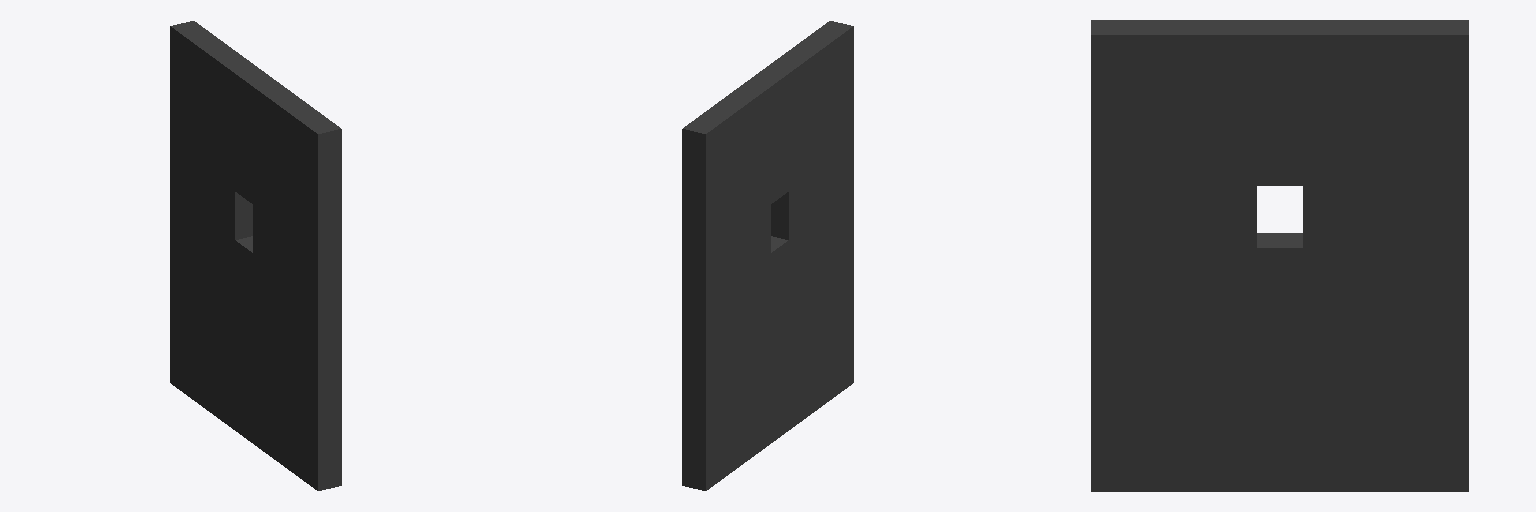
robot.urdf — adapter_station_square_socket:
<robot name="adapter_station_square_socket">
  
  
  
  
  
  
  
  
  
  
  <link name="world"><inertial><mass value="0.0" /><origin rpy="0 0 0" xyz="0 0 0" /><inertia ixx="0.0" ixy="0.0" ixz="0.0" iyy="0.0" iyz="0.0" izz="0.0" /></inertial></link>
  <joint name="socket_base_joint" type="fixed">
    <parent link="world" />
    <child link="socket_base" />
    <origin rpy="1.5707963267948966 0 -1.5707963267948966" xyz="0 0 0.5" />
  </joint>
  <link name="socket_base">
    <visual>
      <origin rpy="1.5707963267948966 0 0" xyz="0 0 0" />
      <geometry>
        <mesh filename="package://chargepal_tools/sockets/meshes/visual/ccs_socket.obj" scale="1.0 1.0 1.0" />
      </geometry>
      <material name="dark_grey">
        <color rgba="0.3 0.3 0.3 1" />
      </material>
    </visual>
    <collision>
      <origin rpy="0 0 0" xyz="0 0 0" />
      <geometry>
        <mesh filename="package://chargepal_tools/sockets/meshes/collision/ccs_socket_outter_vhacd.obj" scale="1.0 1.0 1.0" />
      </geometry>
    </collision>
    <inertial>
      <mass value="1.0" />
      <origin rpy="0 0 0" xyz="0 0 0" />
      <inertia ixx="0.0012421661697999999" ixy="0.0" ixz="0.0" iyy="0.001428103595425" iyz="0.0" izz="0.000690103890625" />
    </inertial>
  </link>
  <joint name="socket_wall_bottom_joint" type="fixed">
    <parent link="world" />
    <child link="socket_wall_bottom" />
    <origin rpy="0 0 1.5707963267948966" xyz="0.0275 0 0.2135" />
  </joint>
  <link name="socket_wall_bottom">
    <inertial>
      <mass value="1.0" />
      <origin rpy="0 0 0" xyz="0 0 0" />
      <inertia ixx="0.015446160488199998" ixy="0.0" ixz="0.0" iyy="0.045194065255699994" iyz="0.0" izz="0.030252071232499997" />
    </inertial>
    <visual>
      <material name="dark_grey">
        <color rgba="0.3 0.3 0.3 1" />
      </material>
      <orign rpy="0.0 0.0 0.0" xyz="0.0 0.0 0.0" />
      <geometry>
        <box size="0.6 0.055 0.427" />
      </geometry>
    </visual>
    <collision>
      <orign rpy="0.0 0.0 0.0" xyz="0.0 0.0 0.0" />
      <geometry>
        <box size="0.6 0.055 0.427" />
      </geometry>
    </collision>
  </link>
  <joint name="socket_wall_right_joint" type="fixed">
    <parent link="world" />
    <child link="socket_wall_right" />
    <origin rpy="0 0 1.5707963267948966" xyz="0.0275 -0.168125 0.4815" />
  </joint>
  <link name="socket_wall_right">
    <inertial>
      <mass value="1.0" />
      <origin rpy="0 0 0" xyz="0 0 0" />
      <inertia ixx="0.0012421661697999999" ixy="0.0" ixz="0.0" iyy="0.00678708582683125" iyz="0.0" izz="0.006049086122031249" />
    </inertial>
    <visual>
      <material name="dark_grey">
        <color rgba="0.3 0.3 0.3 1" />
      </material>
      <orign rpy="0.0 0.0 0.0" xyz="0.0 0.0 0.0" />
      <geometry>
        <box size="0.26375 0.055 0.109" />
      </geometry>
    </visual>
    <collision>
      <orign rpy="0.0 0.0 0.0" xyz="0.0 0.0 0.0" />
      <geometry>
        <box size="0.26375 0.055 0.109" />
      </geometry>
    </collision>
  </link>
  <joint name="socket_wall_left_joint" type="fixed">
    <parent link="world" />
    <child link="socket_wall_left" />
    <origin rpy="0 0 1.5707963267948966" xyz="0.0275 0.168125 0.4815" />
  </joint>
  <link name="socket_wall_left">
    <inertial>
      <mass value="1.0" />
      <origin rpy="0 0 0" xyz="0 0 0" />
      <inertia ixx="0.0012421661697999999" ixy="0.0" ixz="0.0" iyy="0.00678708582683125" iyz="0.0" izz="0.006049086122031249" />
    </inertial>
    <visual>
      <material name="dark_grey">
        <color rgba="0.3 0.3 0.3 1" />
      </material>
      <orign rpy="0.0 0.0 0.0" xyz="0.0 0.0 0.0" />
      <geometry>
        <box size="0.26375 0.055 0.109" />
      </geometry>
    </visual>
    <collision>
      <orign rpy="0.0 0.0 0.0" xyz="0.0 0.0 0.0" />
      <geometry>
        <box size="0.26375 0.055 0.109" />
      </geometry>
    </collision>
  </link>
  <joint name="socket_wall_top_joint" type="fixed">
    <parent link="world" />
    <child link="socket_wall_top" />
    <origin rpy="0 0 1.5707963267948966" xyz="0.0275 0 0.668" />
  </joint>
  <link name="socket_wall_top">
    <inertial>
      <mass value="1.0" />
      <origin rpy="0 0 0" xyz="0 0 0" />
      <inertia ixx="0.0060600809093000006" ixy="0.0" ixz="0.0" iyy="0.0358079856768" iyz="0.0" izz="0.030252071232499997" />
    </inertial>
    <visual>
      <material name="dark_grey">
        <color rgba="0.3 0.3 0.3 1" />
      </material>
      <orign rpy="0.0 0.0 0.0" xyz="0.0 0.0 0.0" />
      <geometry>
        <box size="0.6 0.055 0.264" />
      </geometry>
    </visual>
    <collision>
      <orign rpy="0.0 0.0 0.0" xyz="0.0 0.0 0.0" />
      <geometry>
        <box size="0.6 0.055 0.264" />
      </geometry>
    </collision>
  </link>
  <joint name="socket_joint" type="fixed">
    <parent link="socket_base" />
    <child link="socket" />
    <axis xyz="0 0 0" />
    <origin rpy="3.141592653589793 0 -1.5707963267948966" xyz="0 0 0" />
  </joint>
  <link name="socket">
    <inertial>
      <mass value="0.0" />
      <origin rpy="0 0 0" xyz="0 0 0" />
      <inertia ixx="0.0" ixy="0.0" ixz="0.0" iyy="0.0" iyz="0.0" izz="0.0" />
    </inertial>
  </link>
  <gazebo reference="socket_base">
    <material>Gazebo/Black</material>
  </gazebo>
</robot>

--- Render facts (derived) ---
Views: 3 orthographic renders of the robot side by side, from view 1: azimuth 30°, elevation 25°; view 2: azimuth 150°, elevation 25°; view 3: azimuth 270°, elevation 25°.
Model adapter_station_square_socket with 7 links and 6 joints (6 fixed), rooted at world, posed every joint at zero.
Visible links, largest first — view 1: socket_wall_bottom, socket_wall_top, socket_wall_right, socket_wall_left; view 2: socket_wall_bottom, socket_wall_top, socket_wall_left, socket_wall_right; view 3: socket_wall_bottom, socket_wall_top, socket_wall_right, socket_wall_left.
Boxes of the visible links, x1=… form: socket_wall_bottom: x1=170, y1=193, x2=341, y2=490; socket_wall_top: x1=170, y1=21, x2=341, y2=251; socket_wall_right: x1=253, y1=205, x2=341, y2=300; socket_wall_left: x1=170, y1=144, x2=252, y2=239; socket_wall_bottom: x1=682, y1=193, x2=853, y2=490; socket_wall_top: x1=682, y1=21, x2=853, y2=251; socket_wall_left: x1=682, y1=205, x2=770, y2=300; socket_wall_right: x1=771, y1=144, x2=853, y2=239; socket_wall_bottom: x1=1091, y1=233, x2=1468, y2=491; socket_wall_top: x1=1091, y1=20, x2=1468, y2=185; socket_wall_right: x1=1091, y1=186, x2=1256, y2=247; socket_wall_left: x1=1303, y1=186, x2=1468, y2=247.
Bounding box of the posed robot: 0.055 × 0.6 × 0.8 m (x, y, z).
Meshes: 1 distinct files referenced, 0 mesh visuals loaded (none loaded); not drawn: 1 (reference not matched to a file when rendering).